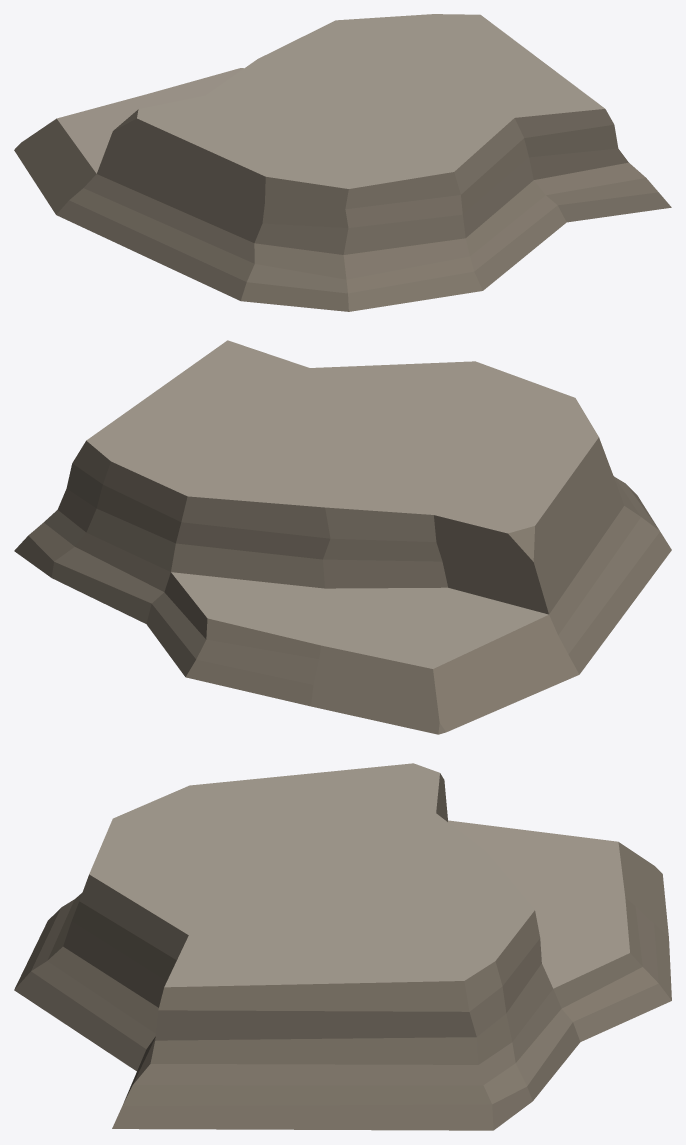
Rendered from HOUSE_STAND.fbx.
The picture shows the model from 3 angles, top to bottom: view 1: azimuth 30°, elevation 25°; view 2: azimuth 150°, elevation 25°; view 3: azimuth 270°, elevation 25°; orthographic projection. The views are drawn at different scales.
Visible parts, largest first — view 1: Plane.001; view 2: Plane.001; view 3: Plane.001.
Part boxes in pixels (left/top/right/bottom): Plane.001: left=14, top=14, right=671, bottom=311; Plane.001: left=14, top=340, right=671, bottom=734; Plane.001: left=14, top=763, right=671, bottom=1130.
Bounding box in the file's own units: 5056 × 1030 × 4982.
